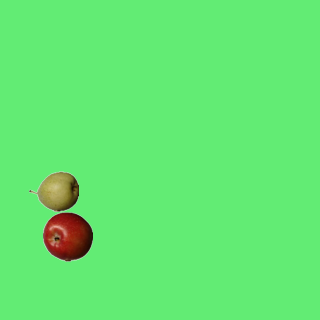Apple Braeburn: (42, 211, 92, 261)
Pear: (28, 166, 78, 216)
